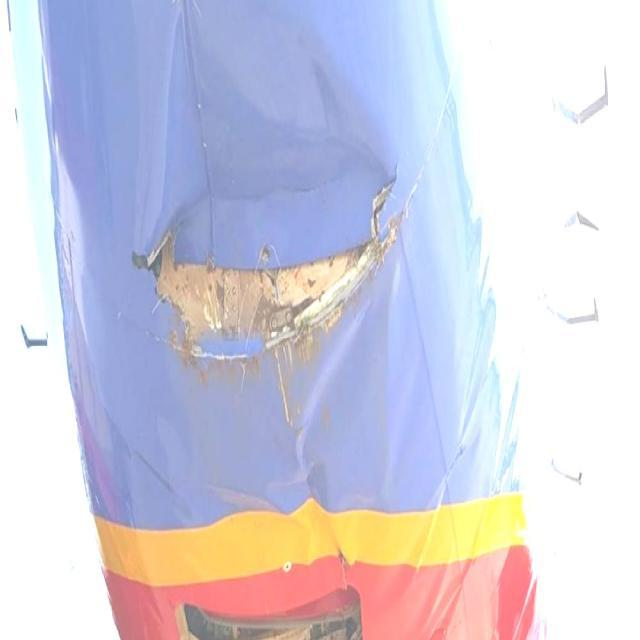crack: (146, 166, 423, 375)
